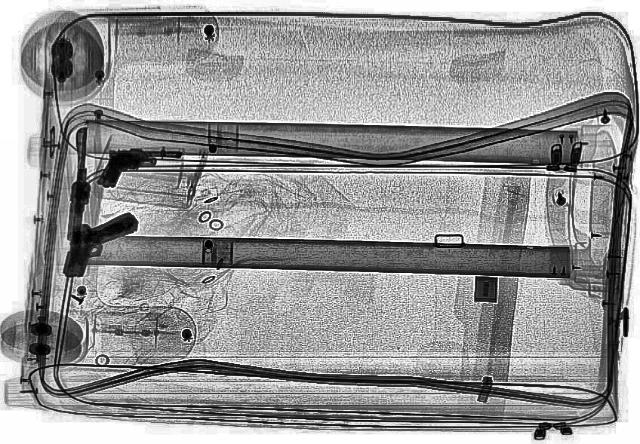Gun: (30, 205, 154, 281), (85, 137, 189, 195), (56, 122, 100, 240)
